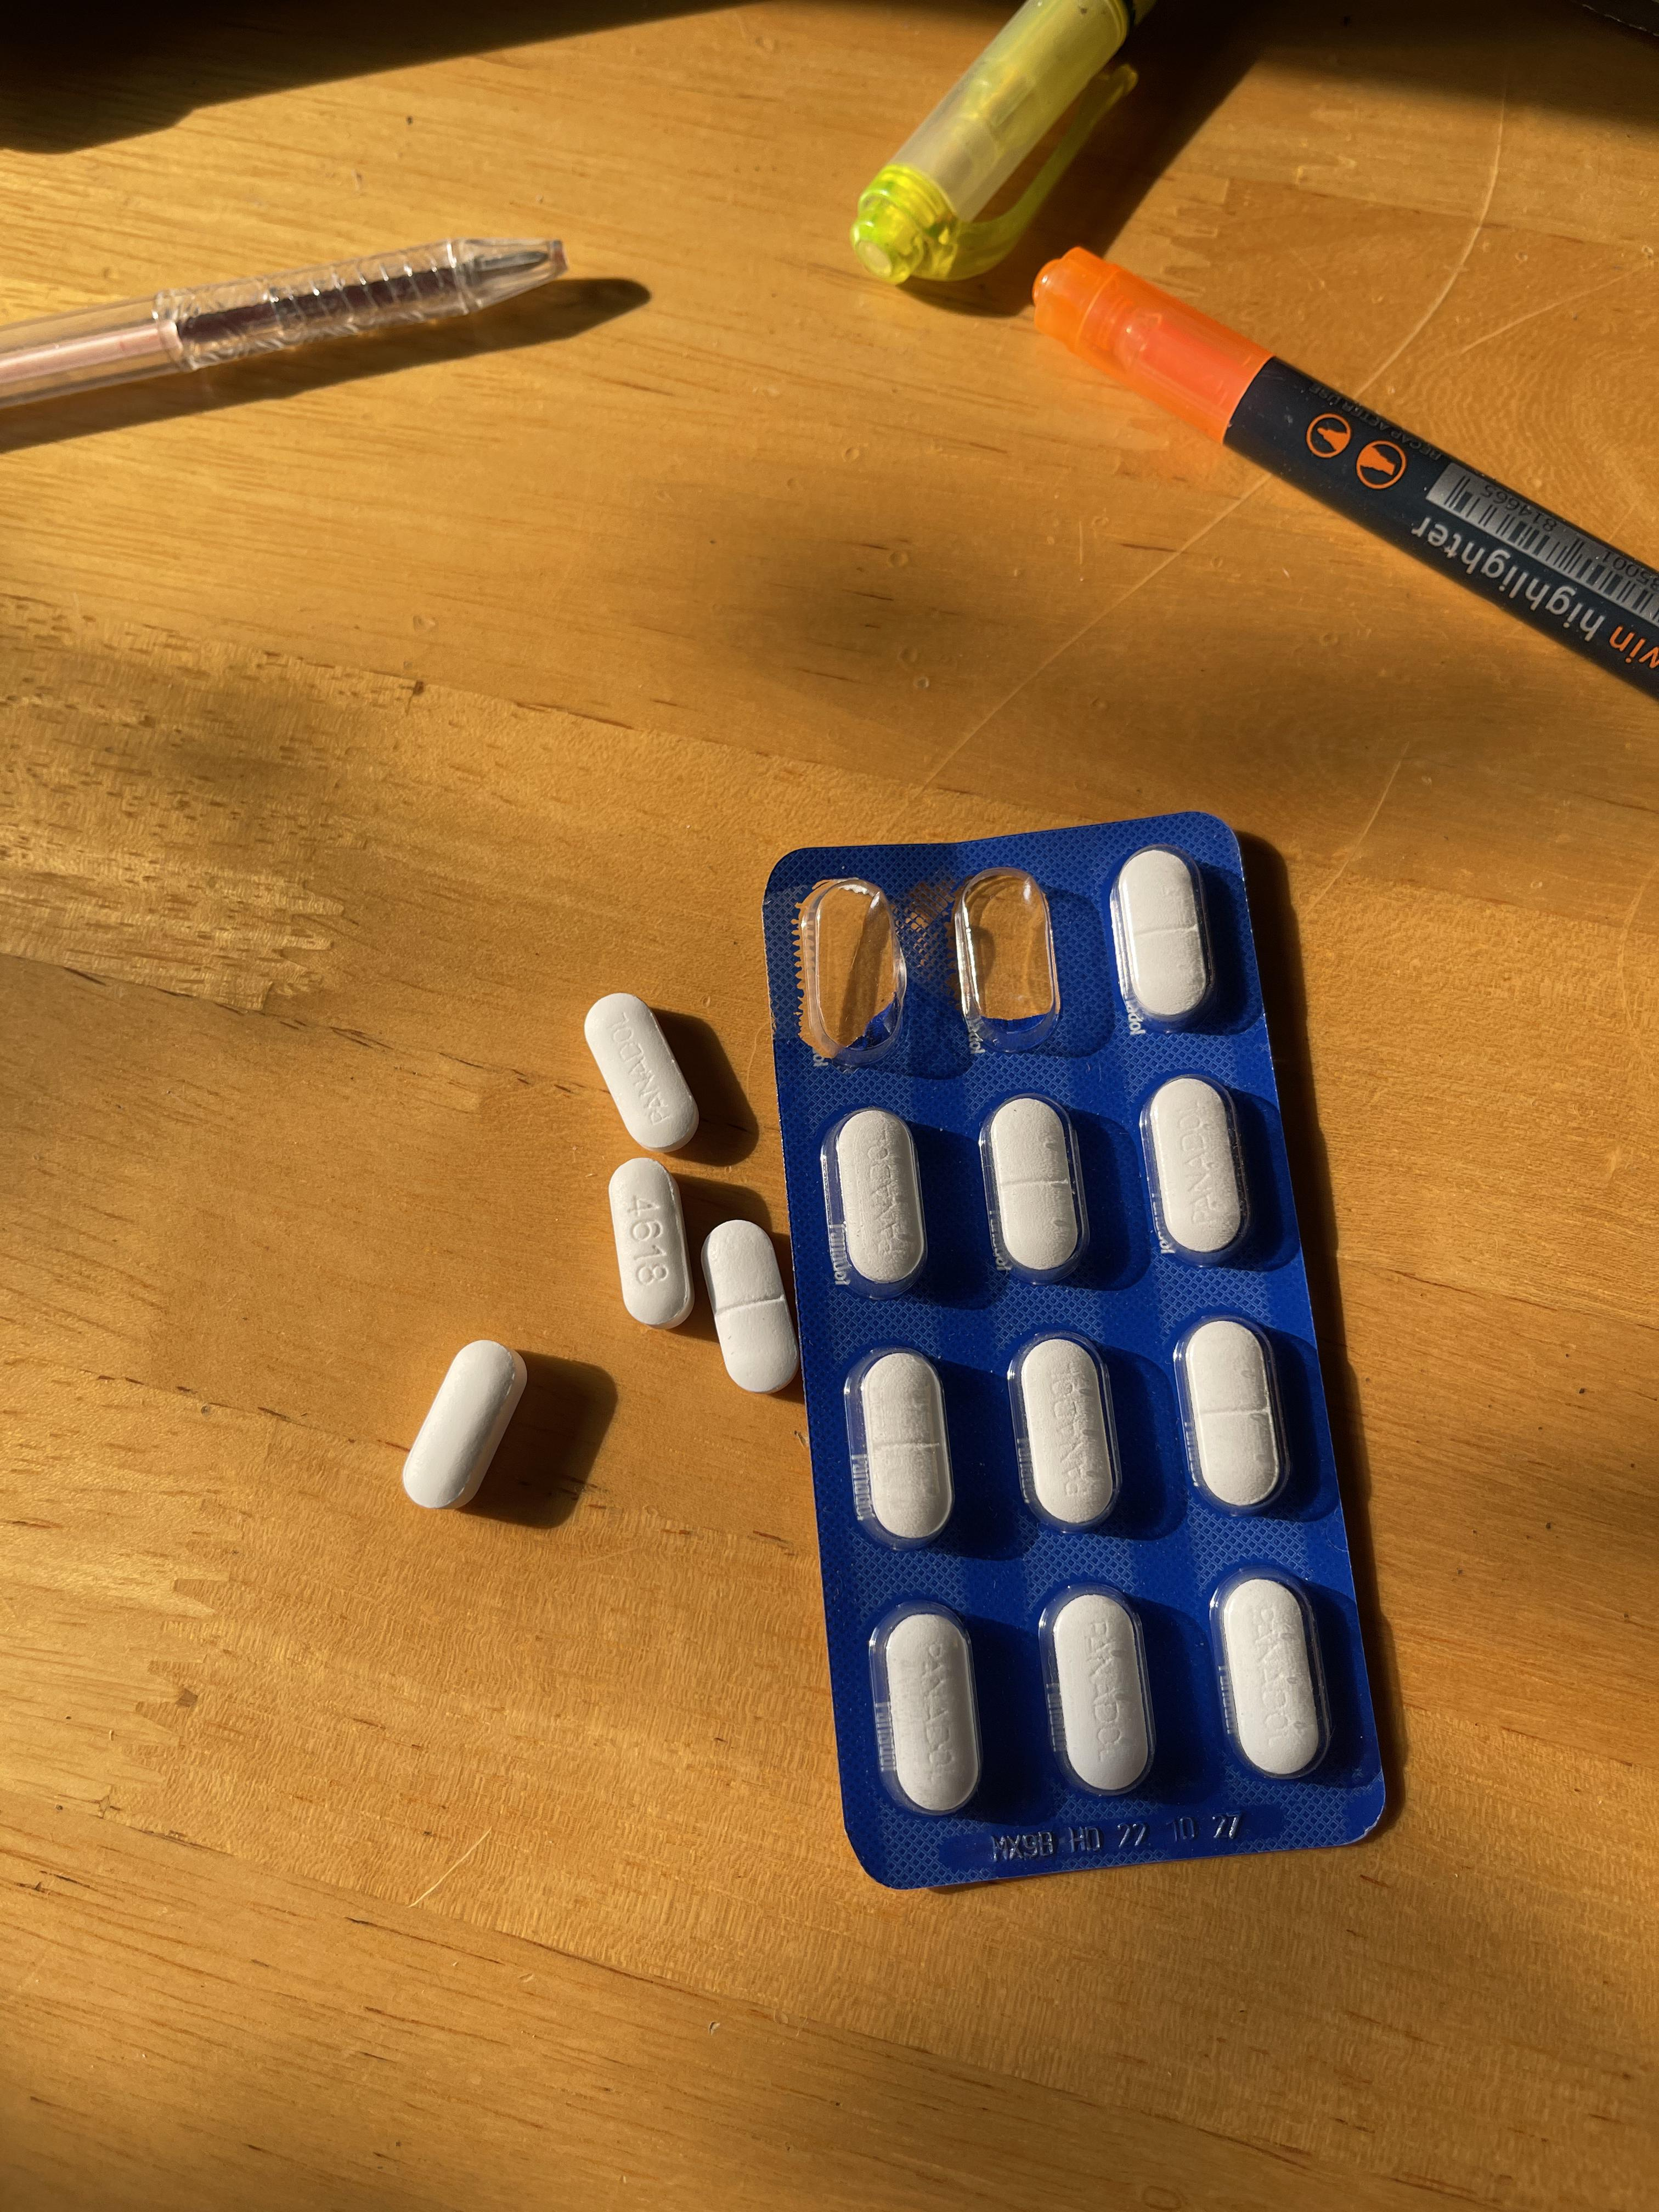Paracetamol_350mg: (1211, 1573, 1328, 1780), (1044, 1588, 1159, 1796), (1178, 1317, 1290, 1515), (875, 1608, 981, 1815), (1011, 1334, 1122, 1529), (1145, 1076, 1251, 1263), (850, 1352, 953, 1543), (981, 1096, 1086, 1280), (584, 996, 697, 1151), (1114, 850, 1211, 1028), (830, 1108, 925, 1287), (699, 1219, 798, 1392)
Paracetamol_500mg: (403, 1341, 525, 1508), (608, 1158, 694, 1325)
